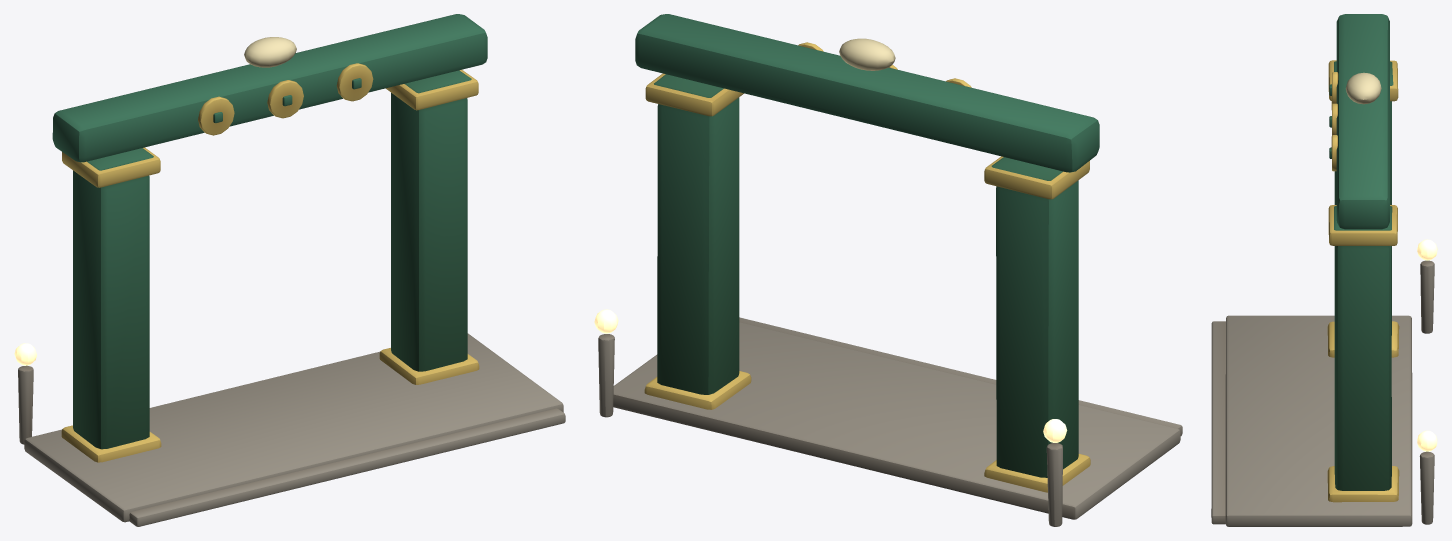
3 views of the same model, side by side, from view 1: azimuth 30°, elevation 25°; view 2: azimuth 150°, elevation 25°; view 3: azimuth 270°, elevation 25° (orthographic). The views are drawn at different scales.
Parts seen in each view (by area): view 1: gate_23789463; view 2: gate_23789463; view 3: gate_23789463.
Boxes of the visible parts, x1,y1,x2,y2 form: gate_23789463: (14,14,565,526); gate_23789463: (594,14,1182,526); gate_23789463: (1211,14,1437,526).
Bounding box in the file's own units: 5.36 × 4.36 × 2.54.
